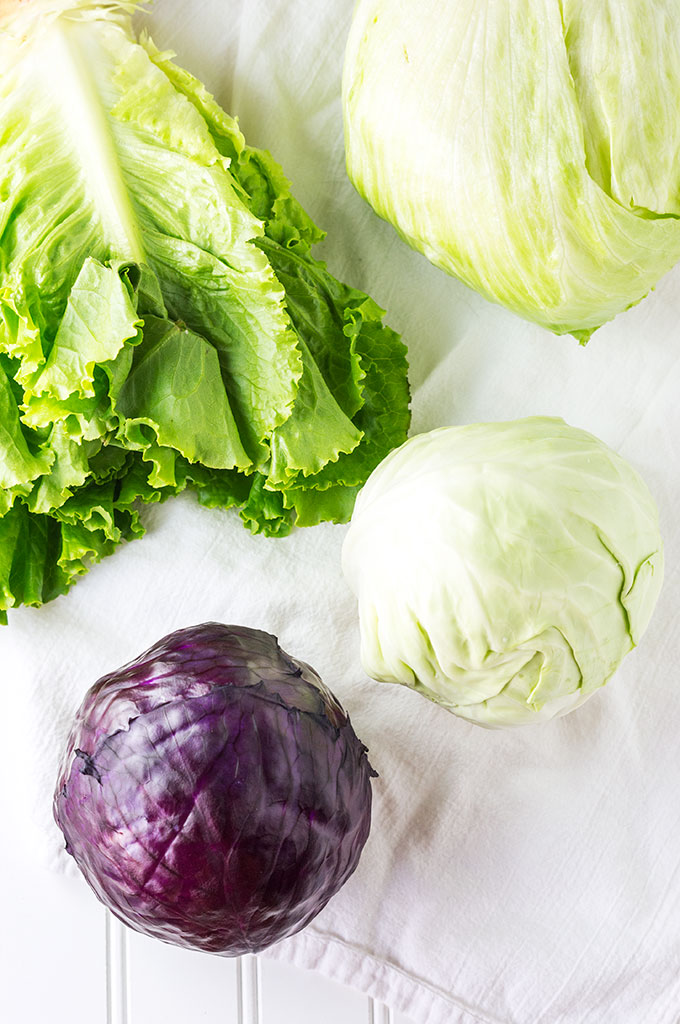chopped lettuce: (1, 153, 340, 514), (351, 28, 680, 331)
